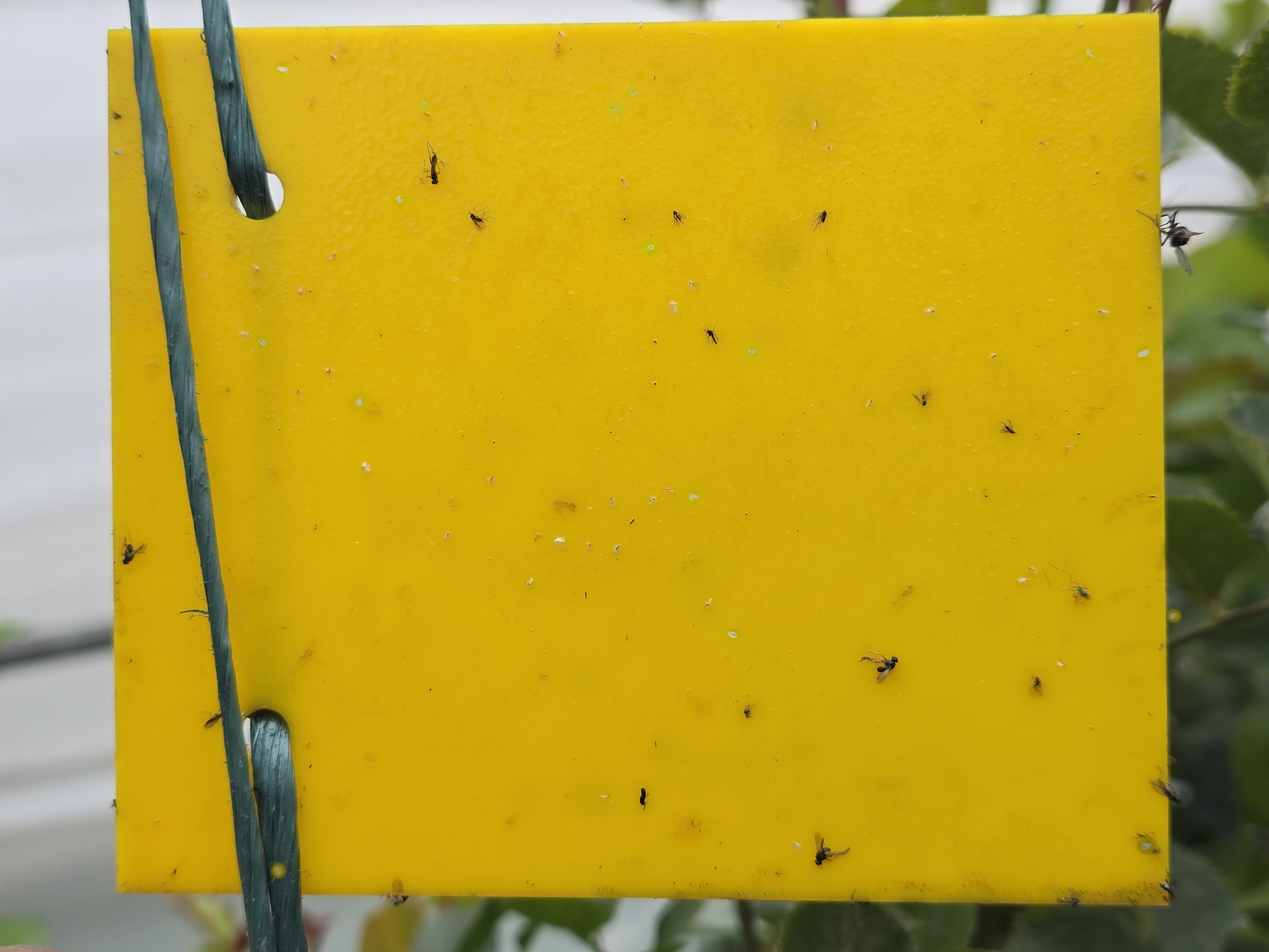WF: (358, 460, 375, 475), (685, 489, 701, 504), (351, 395, 369, 408), (1136, 346, 1151, 360), (1139, 839, 1154, 852), (723, 631, 742, 641), (1095, 307, 1109, 320), (608, 102, 622, 115), (644, 241, 657, 255), (276, 63, 289, 76), (667, 301, 681, 313), (1084, 46, 1096, 60), (550, 536, 567, 545), (112, 148, 127, 158), (393, 195, 405, 207), (273, 864, 284, 876), (790, 840, 803, 850), (524, 577, 537, 587), (240, 330, 252, 340), (925, 307, 936, 317), (1168, 611, 1179, 621), (256, 337, 267, 347), (746, 347, 757, 356), (1054, 661, 1068, 668), (1019, 576, 1029, 585), (628, 87, 638, 96), (421, 100, 429, 110), (254, 265, 262, 273), (298, 287, 304, 297)
